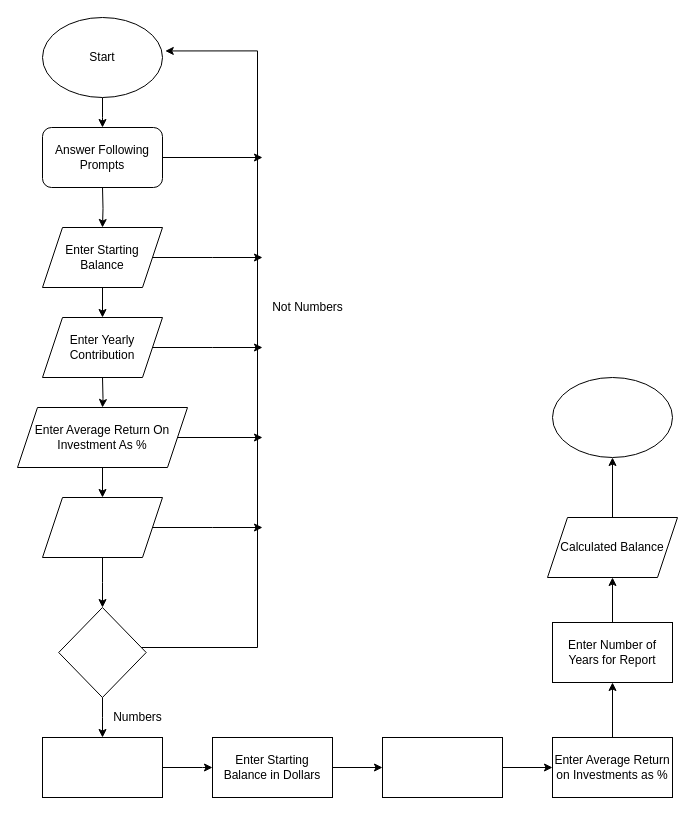
Some shapes in this 695 by 815 pixel diagram are drawn without their labels. Each missing label, with the box of its shape:
Calculate Balance at the end of the Year with the following input to output: (42, 736, 162, 798)
Convert Inputted Numbers Into Output: (58, 606, 146, 698)
End: (552, 376, 672, 458)
Enter Number of years: (42, 496, 162, 558)
Enter Yearly Contribution in Dollars: (382, 736, 502, 798)
